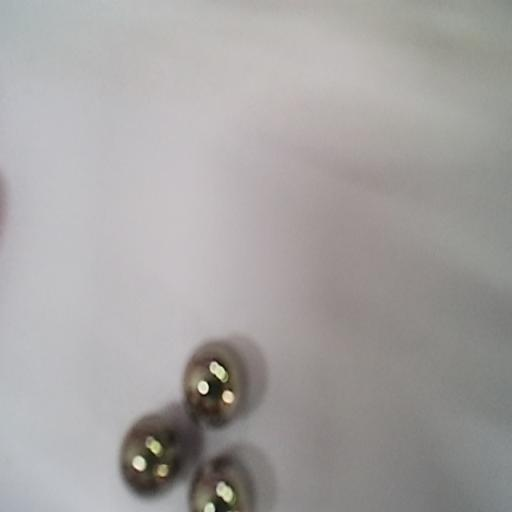steel-ball: (114, 418, 182, 494), (180, 346, 246, 424), (186, 457, 253, 512)
